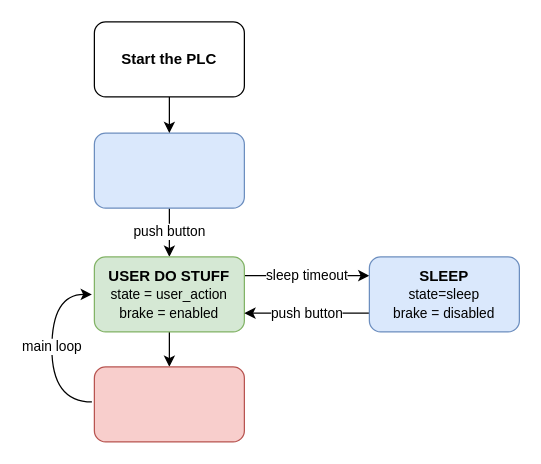
Some shapes in this 541 by 464 pixel diagram are drawn without their labels. The box of each missing label's shape, as (x1, y1, x2, y2) in pixels:
MACHINE DO STUFF state=machine_action: (93, 366, 244, 442)
START state=start: (93, 132, 244, 208)
